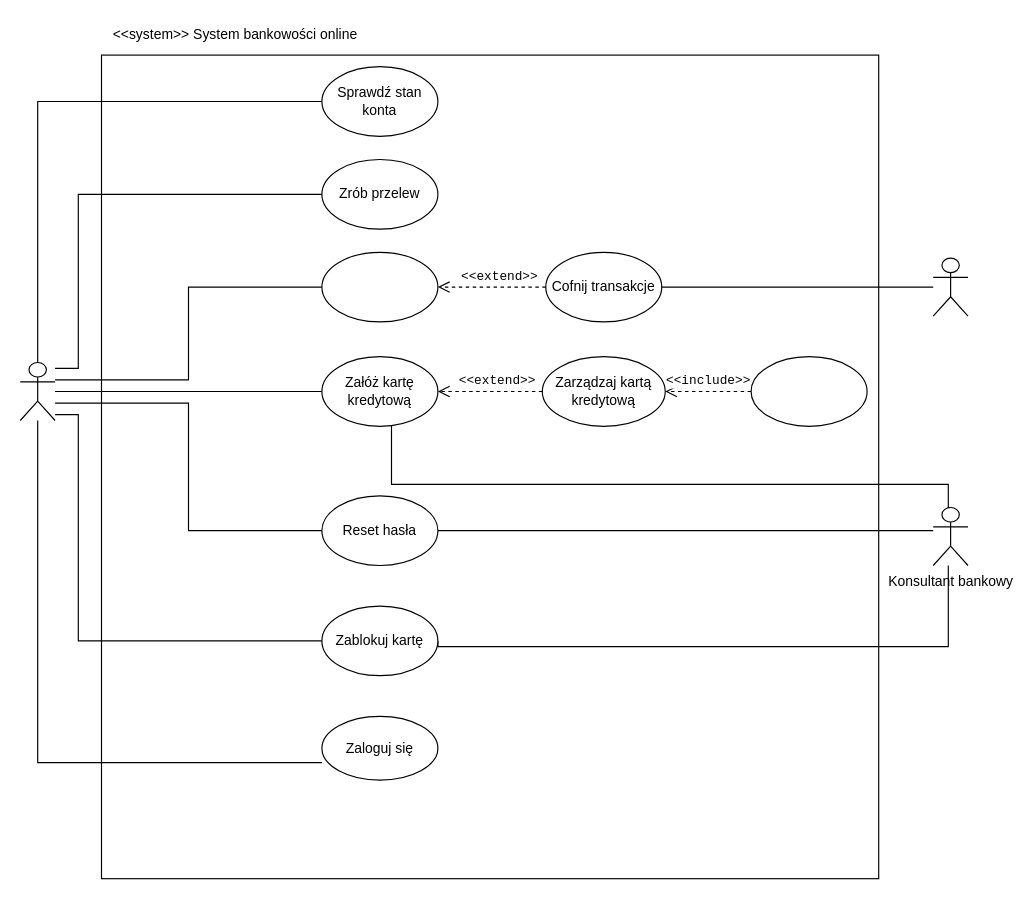
The diagram is 1032 pixels wide and 899 high, and some of its shapes have lost their labels. Each missing label, with the centre of its shape:
Klient: point (37, 390)
System blik: point (950, 286)
Zmień limity karty: point (808, 391)
Zrób blik: point (379, 286)
